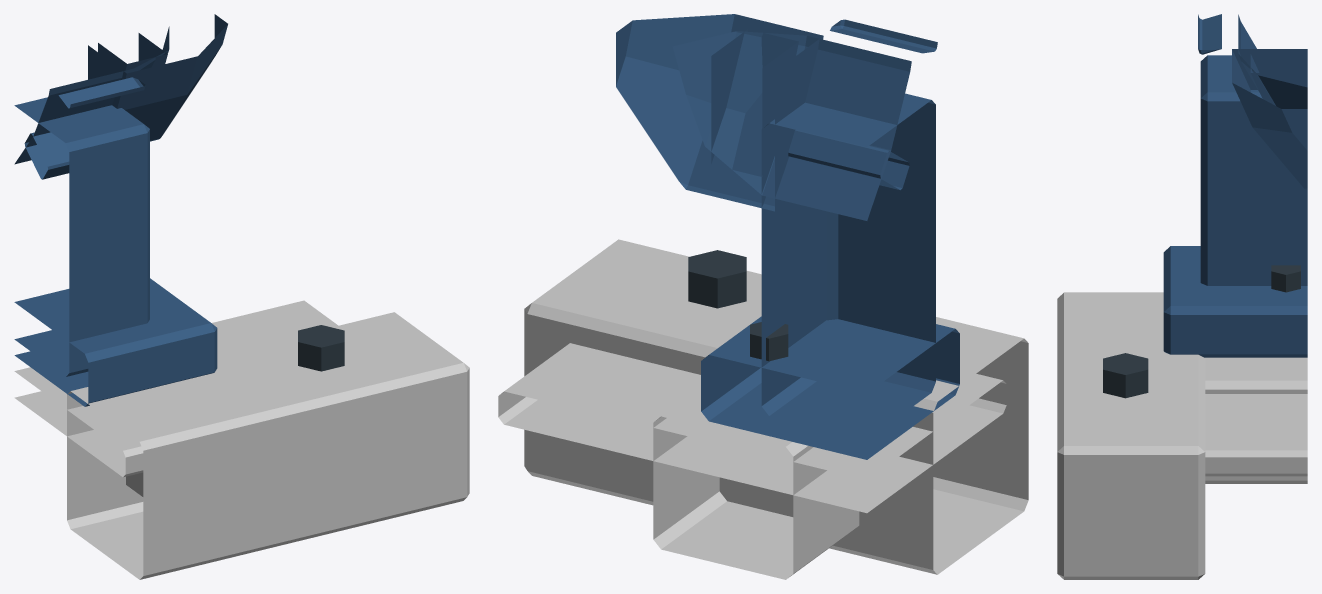
File: cell_20.obj
3 renders of one model, left to right at view 1: azimuth 30°, elevation 25°; view 2: azimuth 150°, elevation 25°; view 3: azimuth 270°, elevation 25°, orthographic. The views are drawn at different scales.
Bounding box in the file's own units: 0.8125 × 1 × 0.55.
